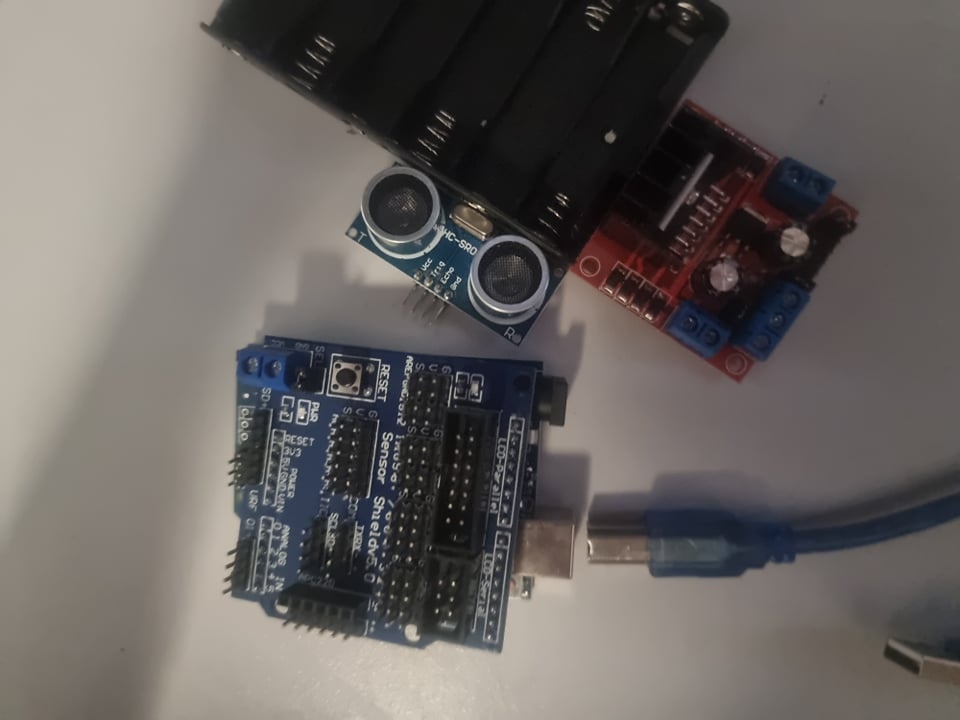BATTERY BOX: (206, 1, 729, 267)
MOTOR: (573, 99, 857, 390)
SENSOR: (344, 167, 562, 349)
UNO R3: (224, 348, 511, 662)
